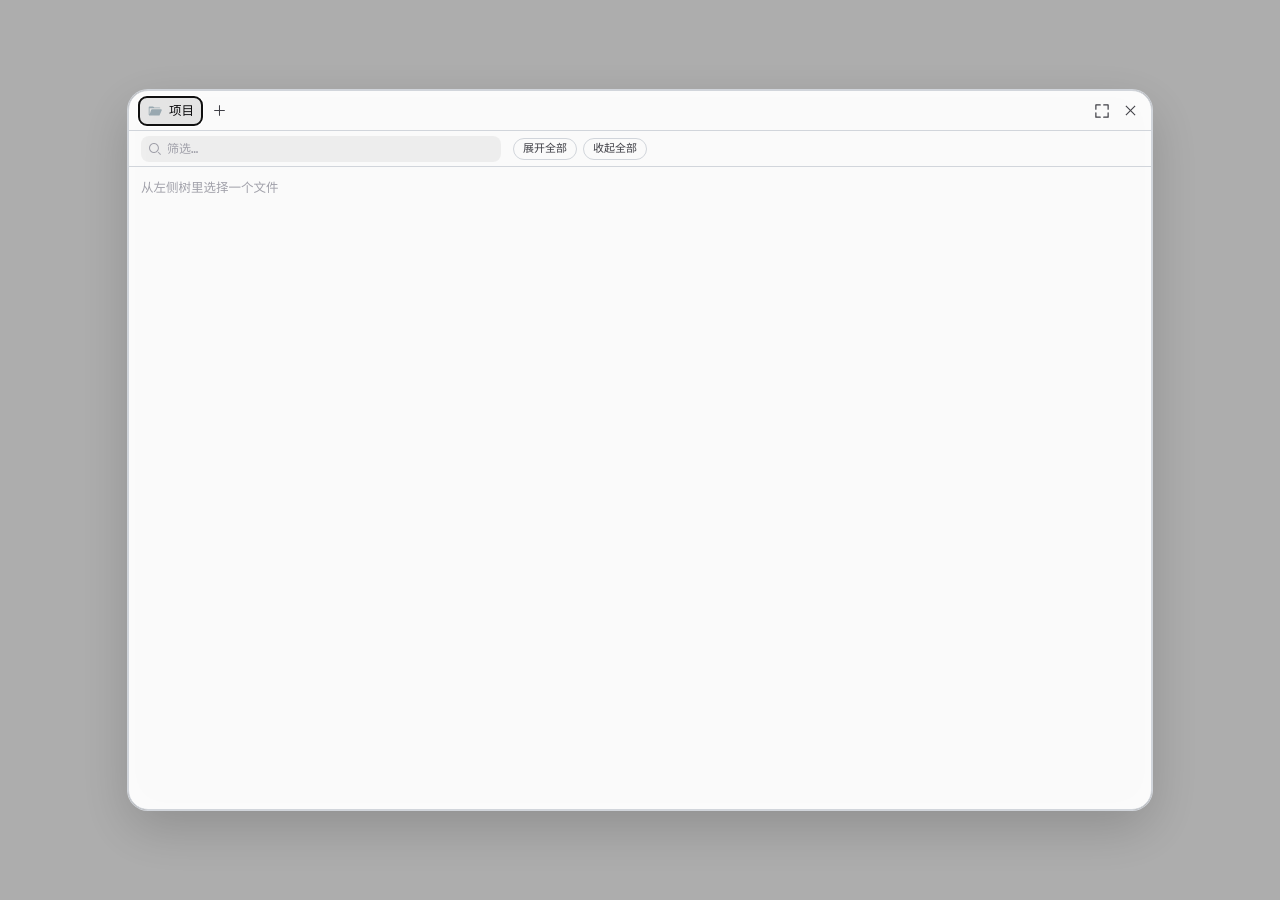
快速打开索引失败时显示错误，不冒充无匹配
Step 1. Click the button titled "Ctrl/⌘+P" → (219, 110), box [206,98,232,124]
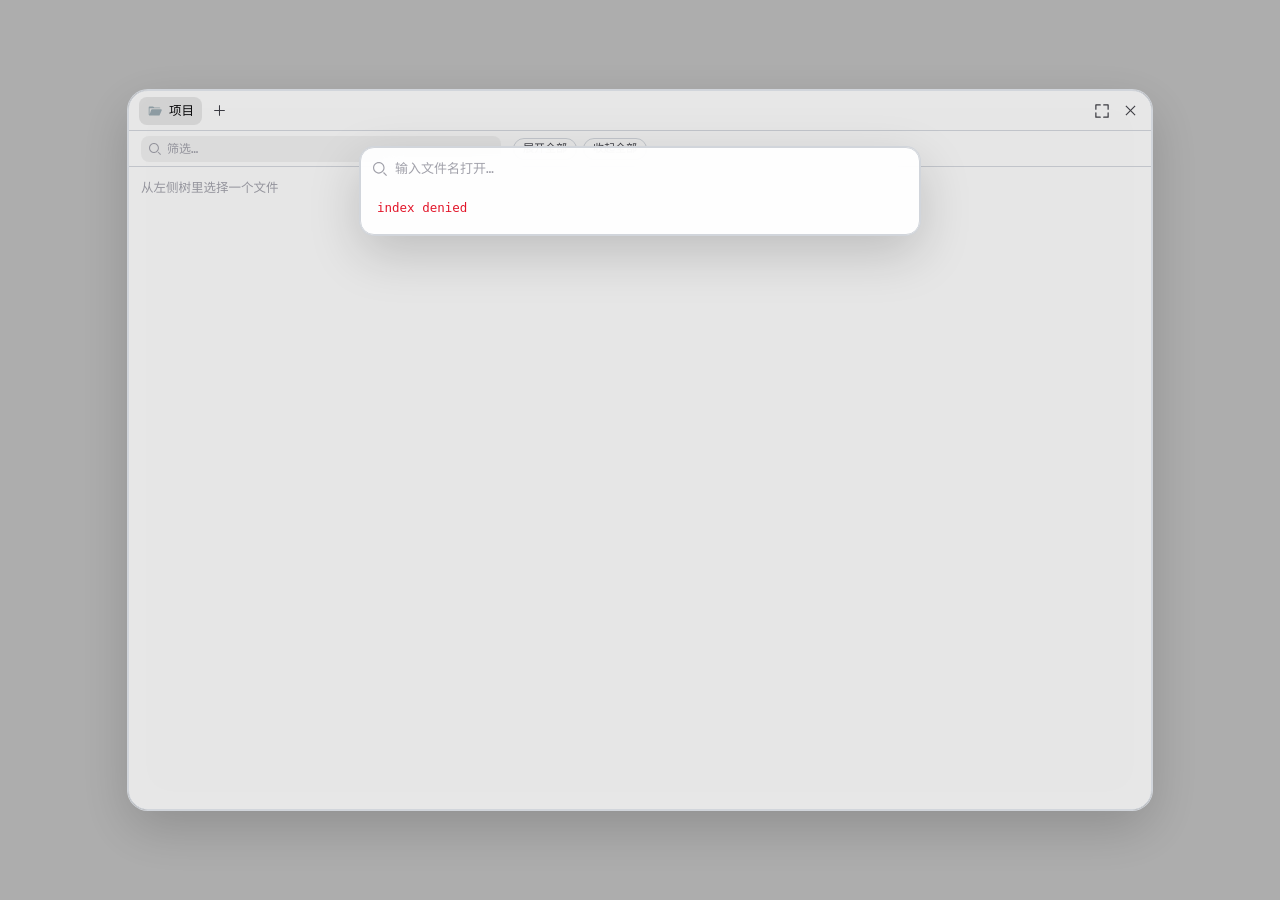
Expected: the message reads "index denied", [377,200,467,215]
